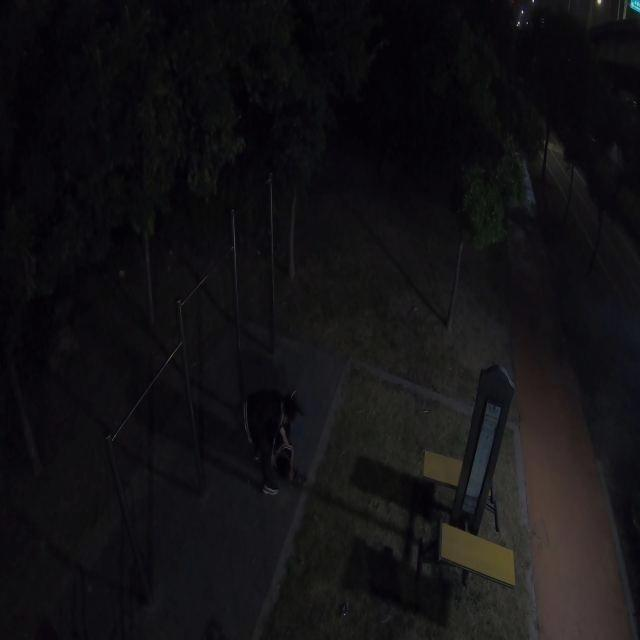fight: (237, 386, 305, 502)
